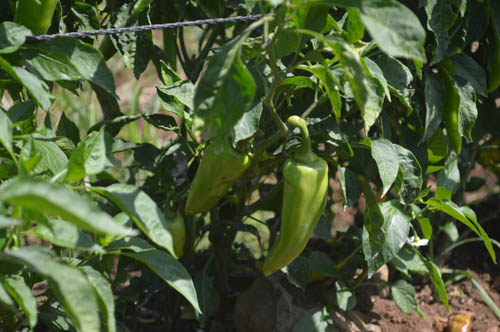ChiliPepper: (264, 158, 331, 278), (184, 140, 250, 218)
